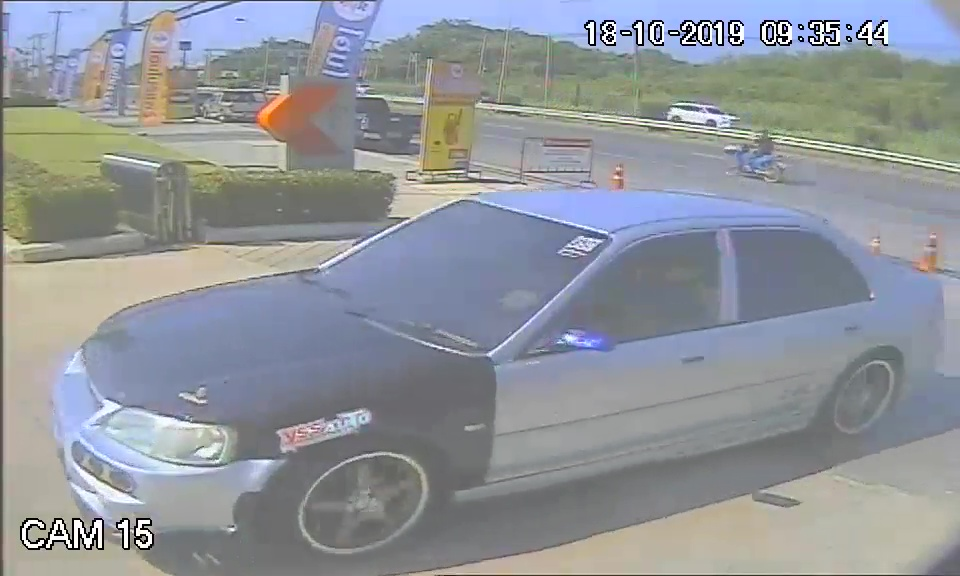sedan: (44, 182, 950, 560)
